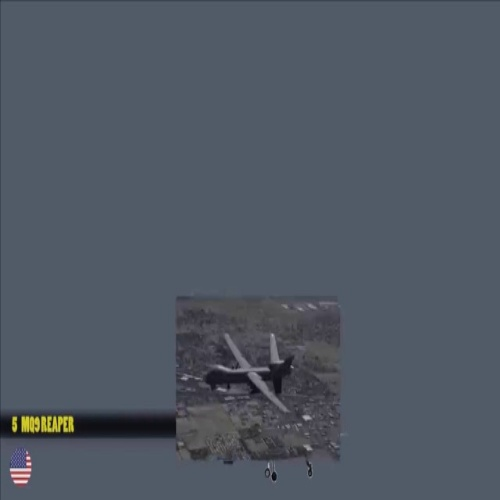uav911: (194, 325, 298, 418)
